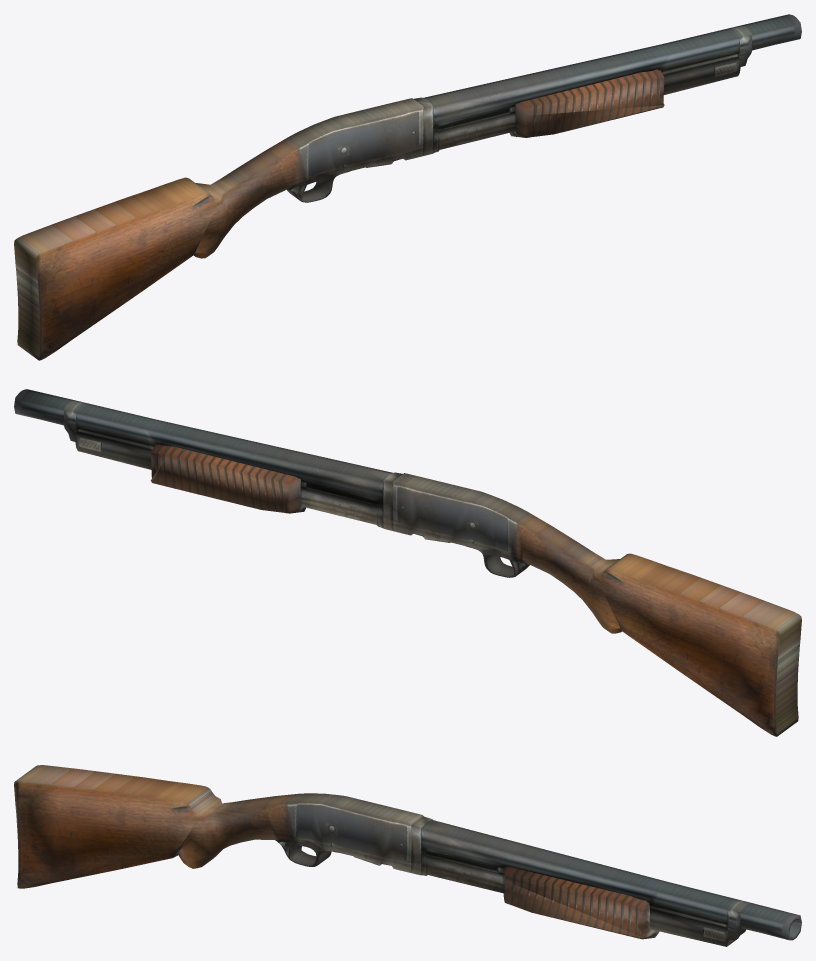
The model's file is remington.fbx.
3 renders of one model, top to bottom at view 1: azimuth 30°, elevation 25°; view 2: azimuth 150°, elevation 25°; view 3: azimuth 330°, elevation 25°, orthographic.
Visible parts, largest first — view 1: BezierCurve.001; view 2: BezierCurve.001; view 3: BezierCurve.001.
Part boxes in pixels (left/top/right/bottom): BezierCurve.001: left=14, top=14, right=801, bottom=360; BezierCurve.001: left=14, top=389, right=801, bottom=736; BezierCurve.001: left=14, top=765, right=801, bottom=946.
Size of the model in its own units: 479 by 93 by 24.54.
1 material, 1 textured.
